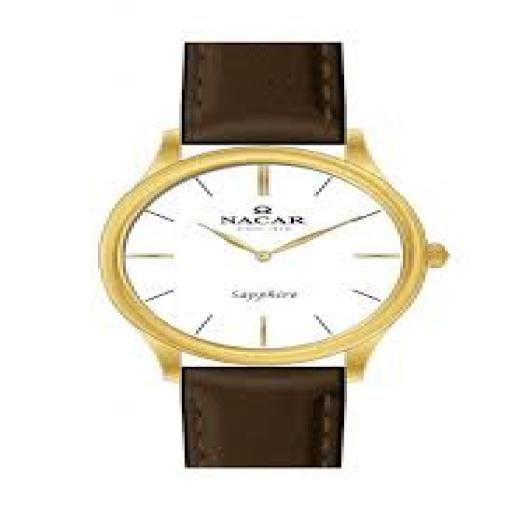KolSaati: (85, 16, 467, 493)
